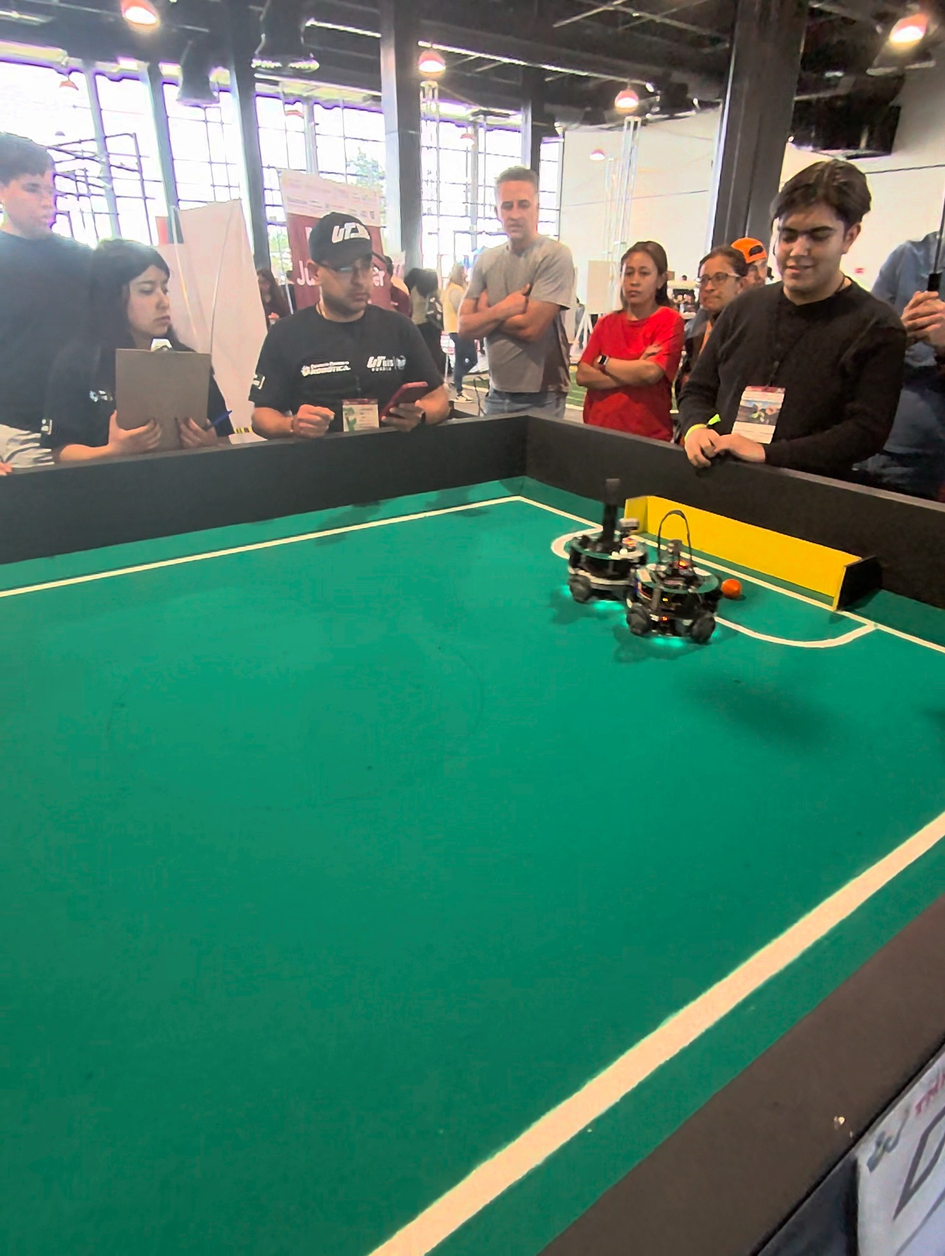Robot: (629, 501, 724, 649), (563, 478, 637, 606)
pelota: (712, 573, 764, 612)
